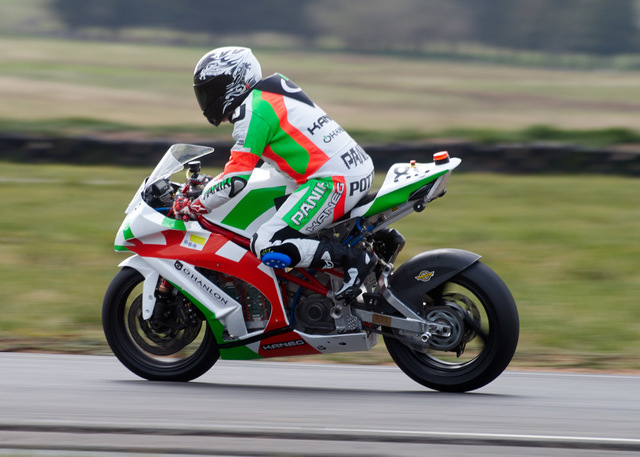helmet: (186, 45, 268, 112)
